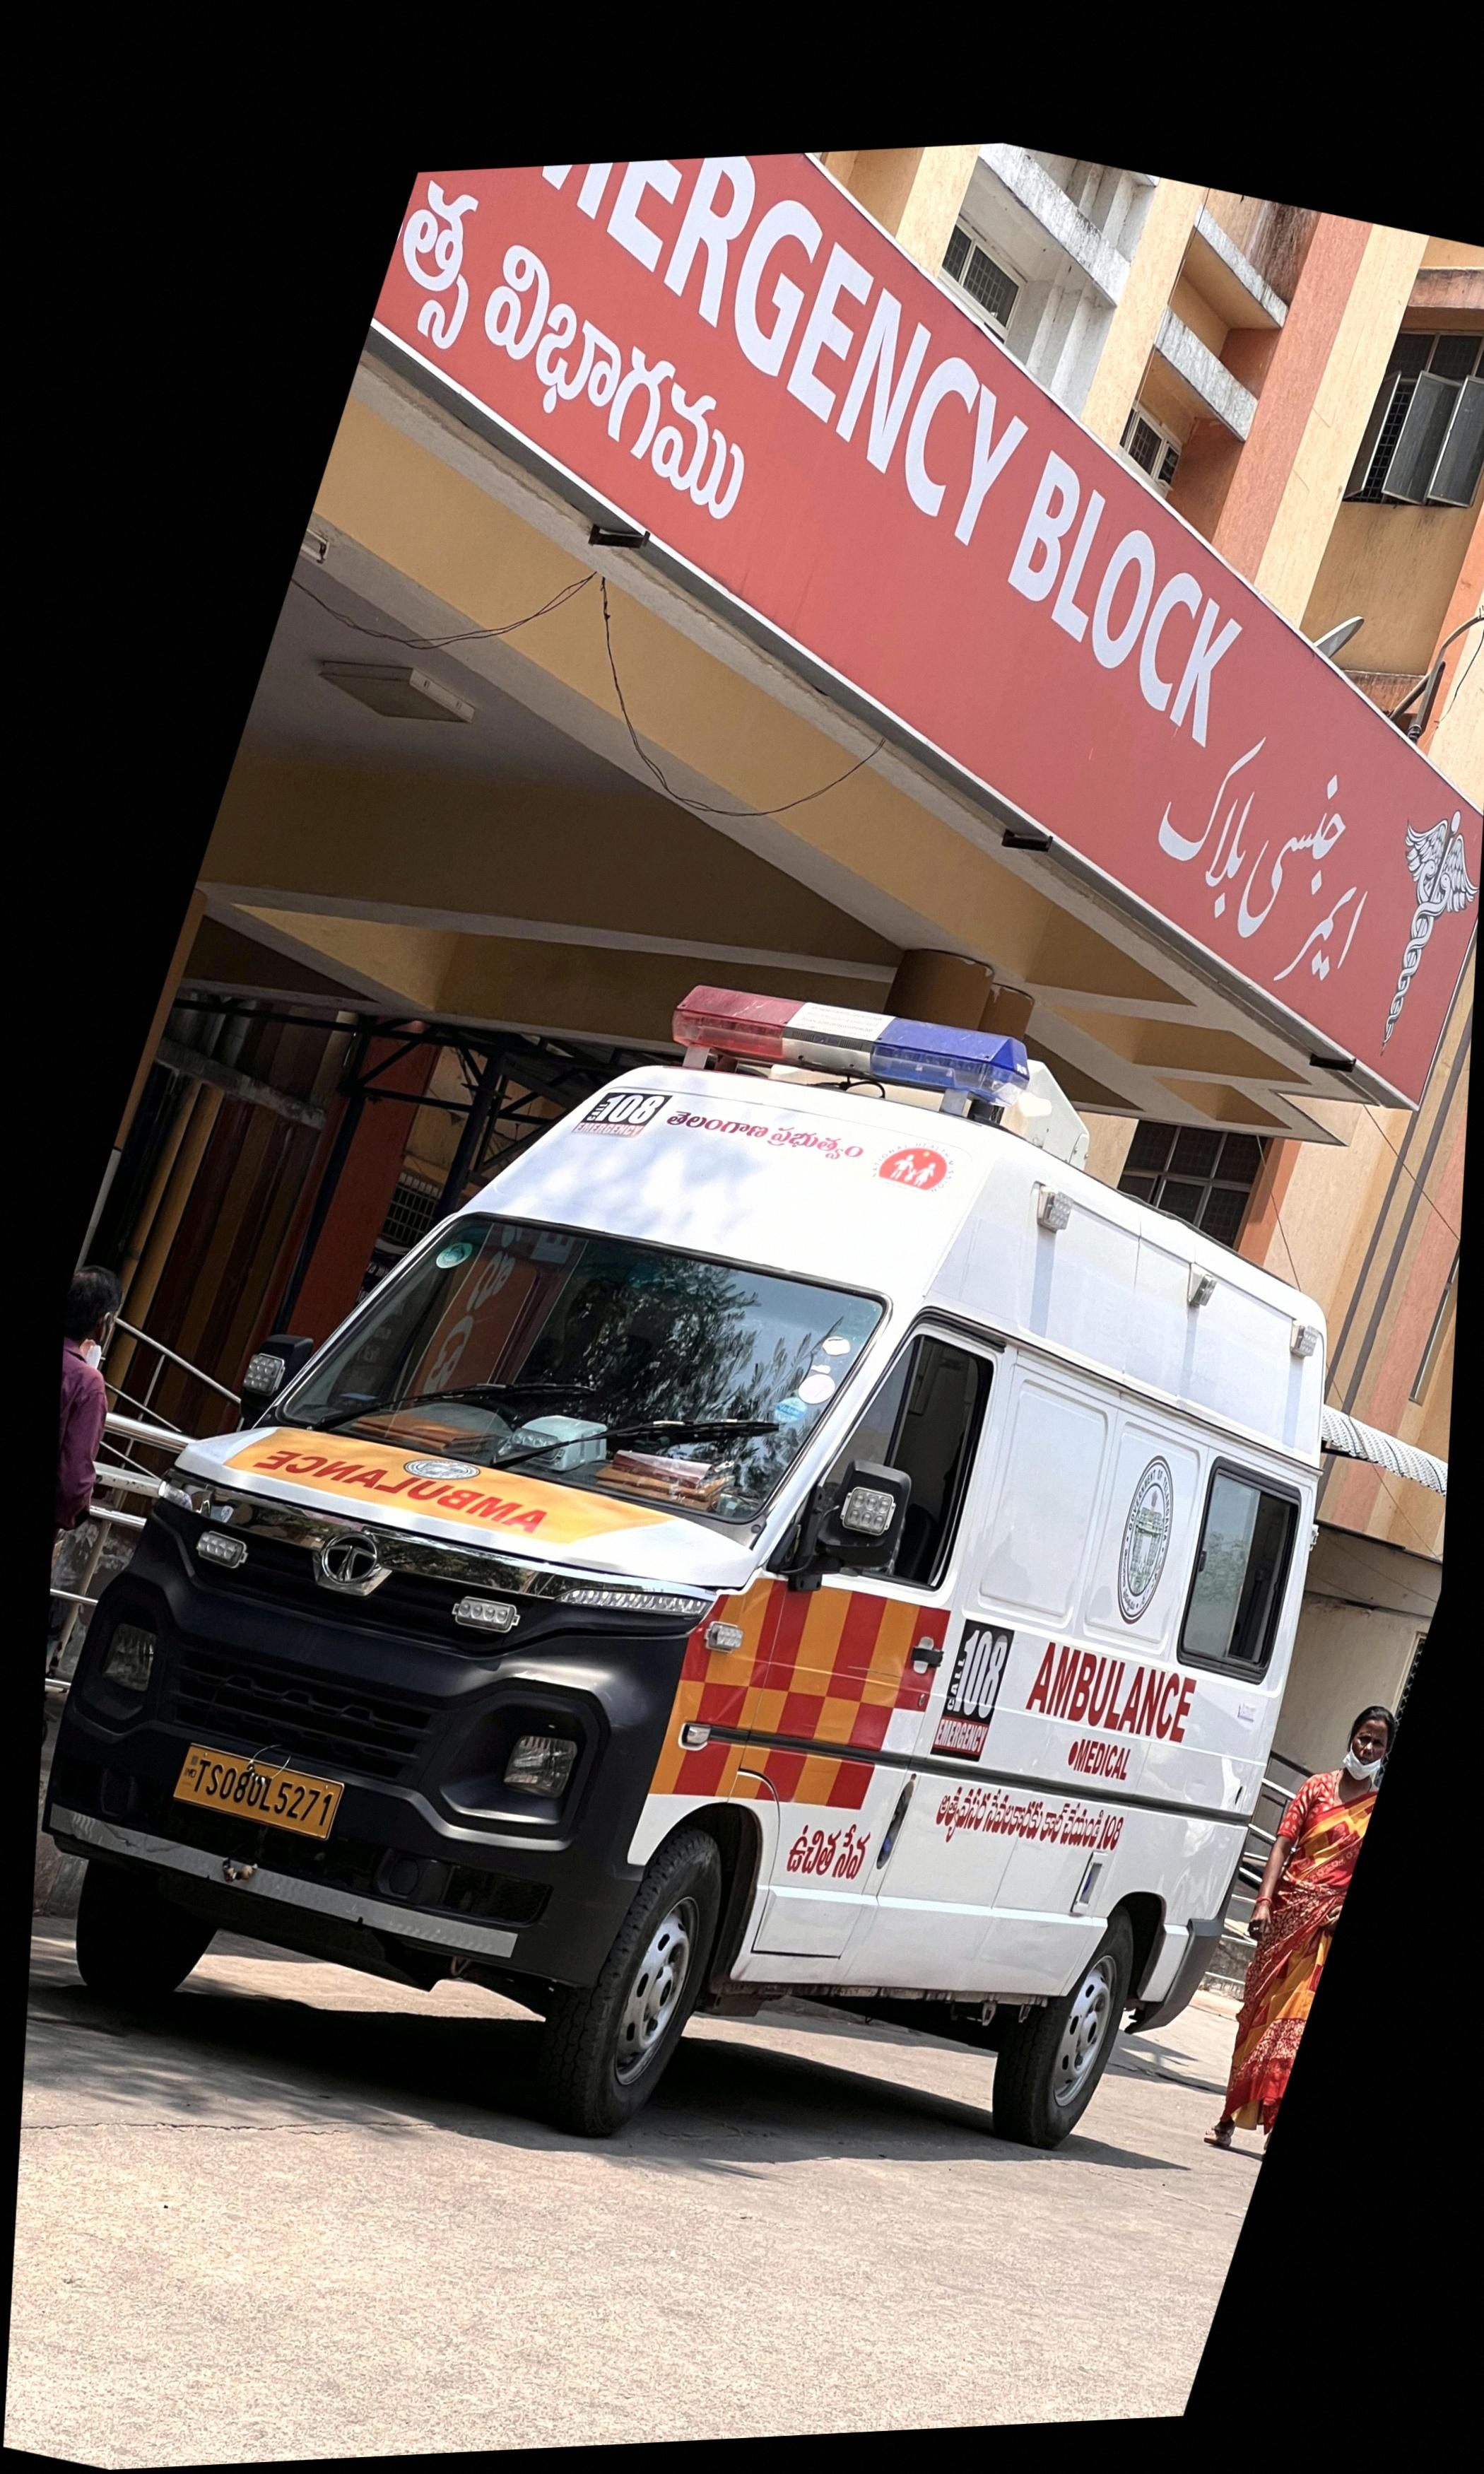ambulance: (42, 991, 1327, 2147)
